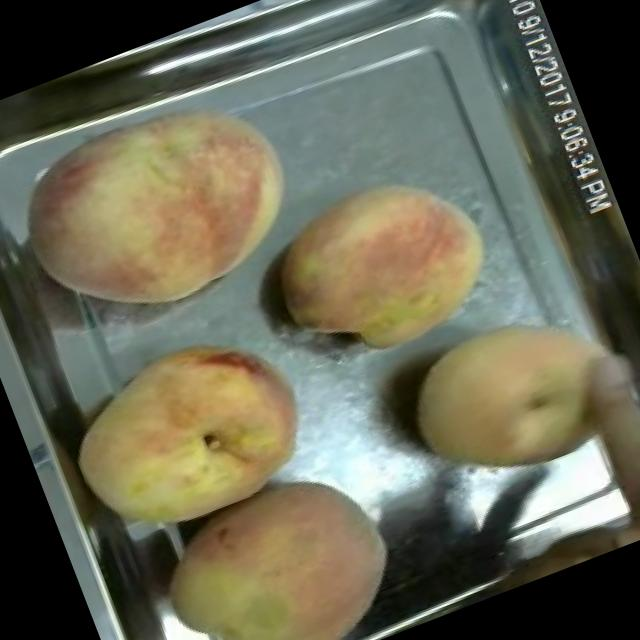Fruit: (0, 53, 326, 354), (36, 300, 338, 568), (246, 146, 520, 392), (376, 284, 638, 525), (133, 451, 428, 640)
